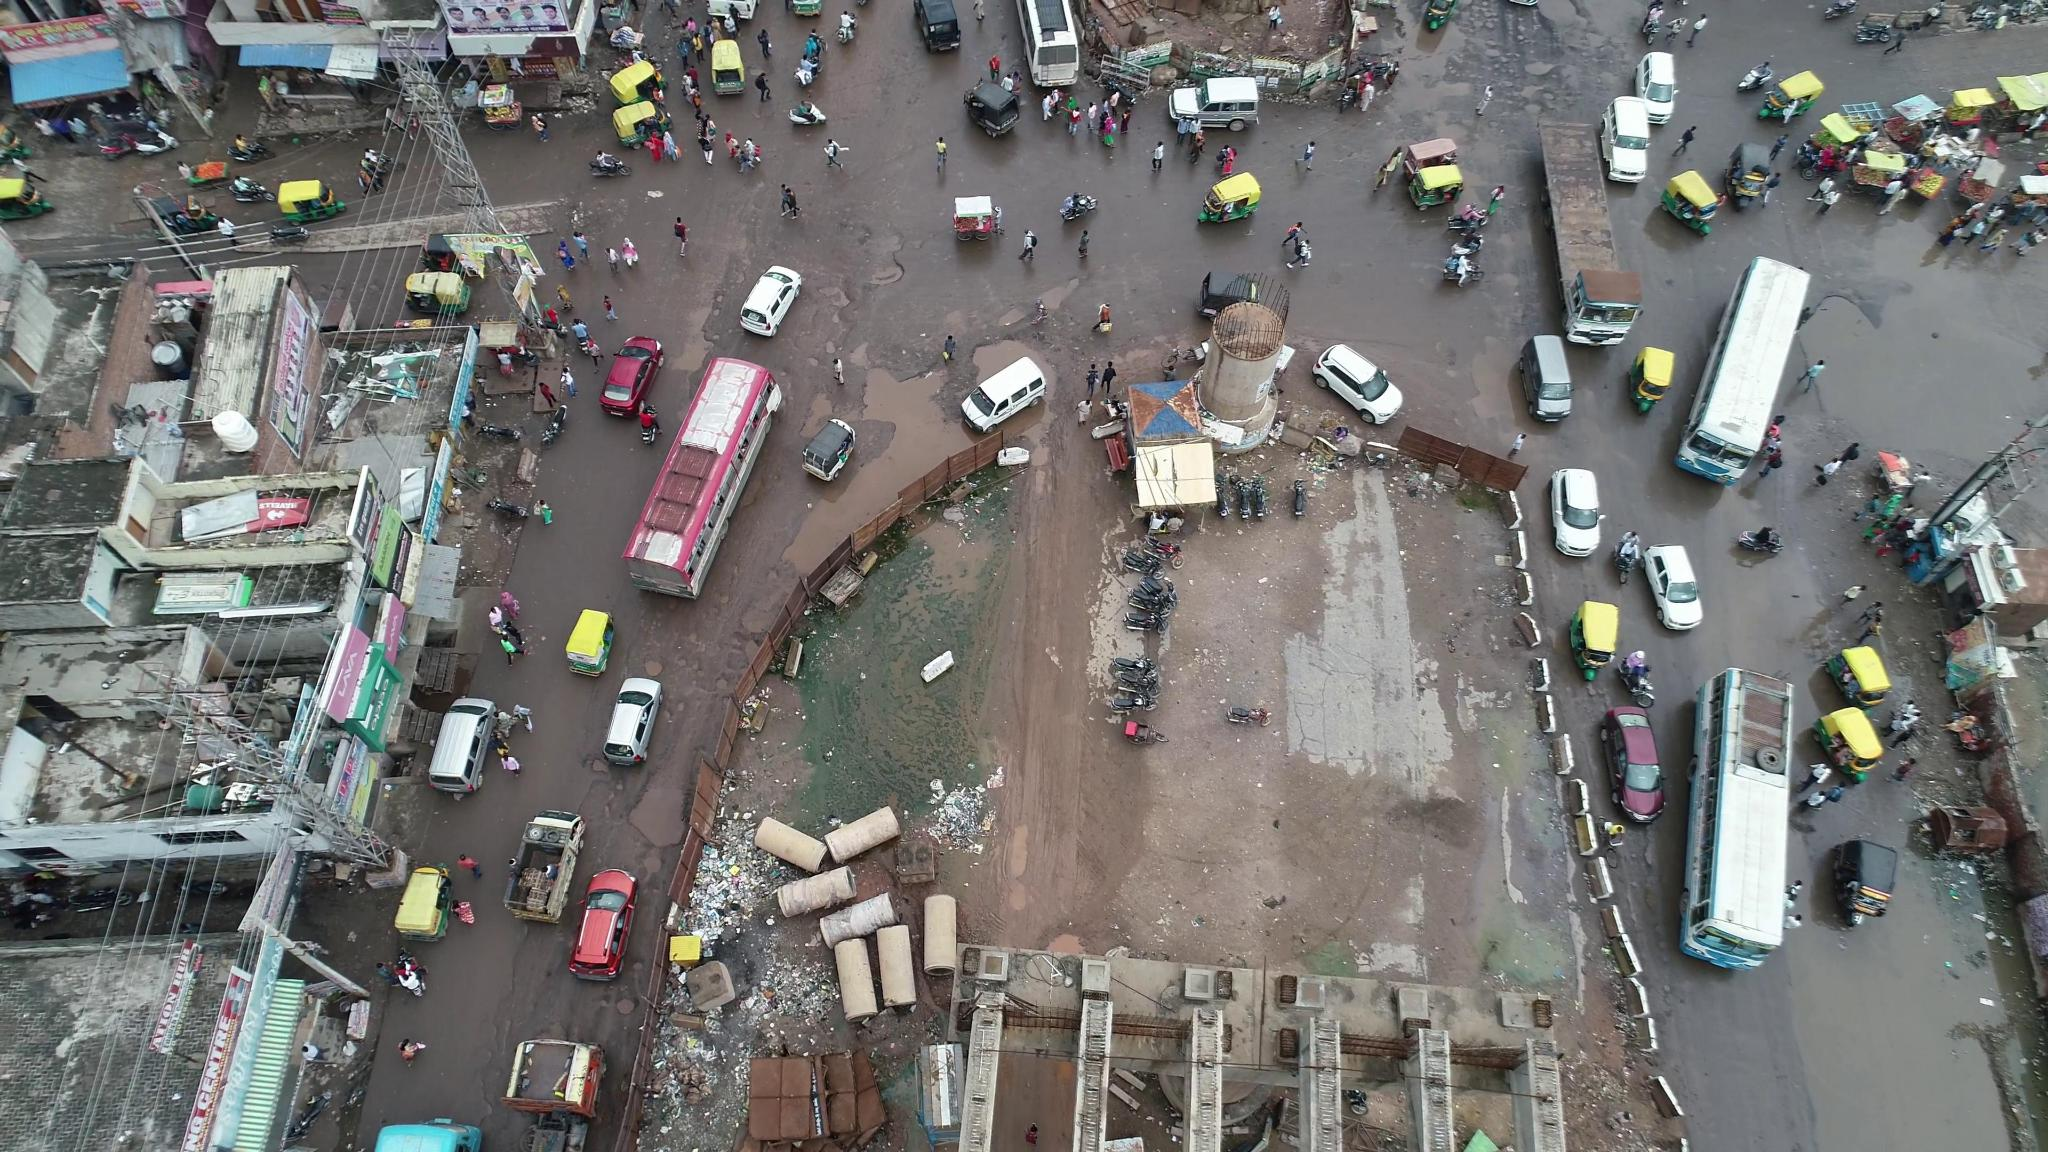Potholes: (1492, 60, 1567, 117), (1471, 1, 1521, 60)
